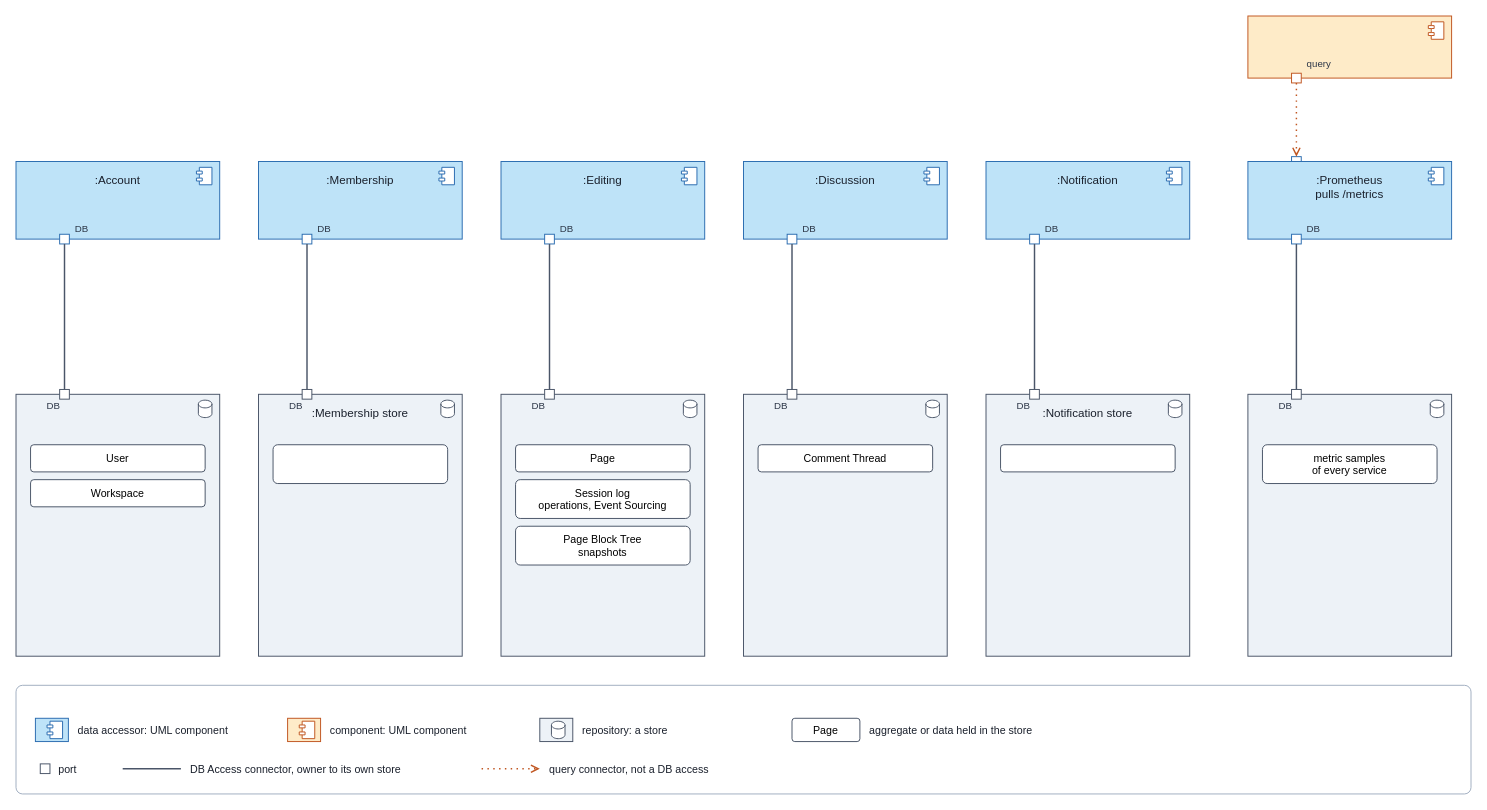
Image size: 1487x810. Some labels were removed from this diagram. Here are the shapes that lost their labels. From the top down, the box of each, then its label:
(1247, 15, 1452, 78): :Grafana
(272, 444, 448, 484): Workspace Membership members, roles, invitations
(1000, 444, 1175, 472): Notification
(15, 393, 220, 656): :Account store
(500, 393, 705, 656): :Editing store
(743, 393, 947, 656): :Discussion store
(1247, 393, 1452, 656): :Time-series store
(15, 684, 1471, 794): Legend
